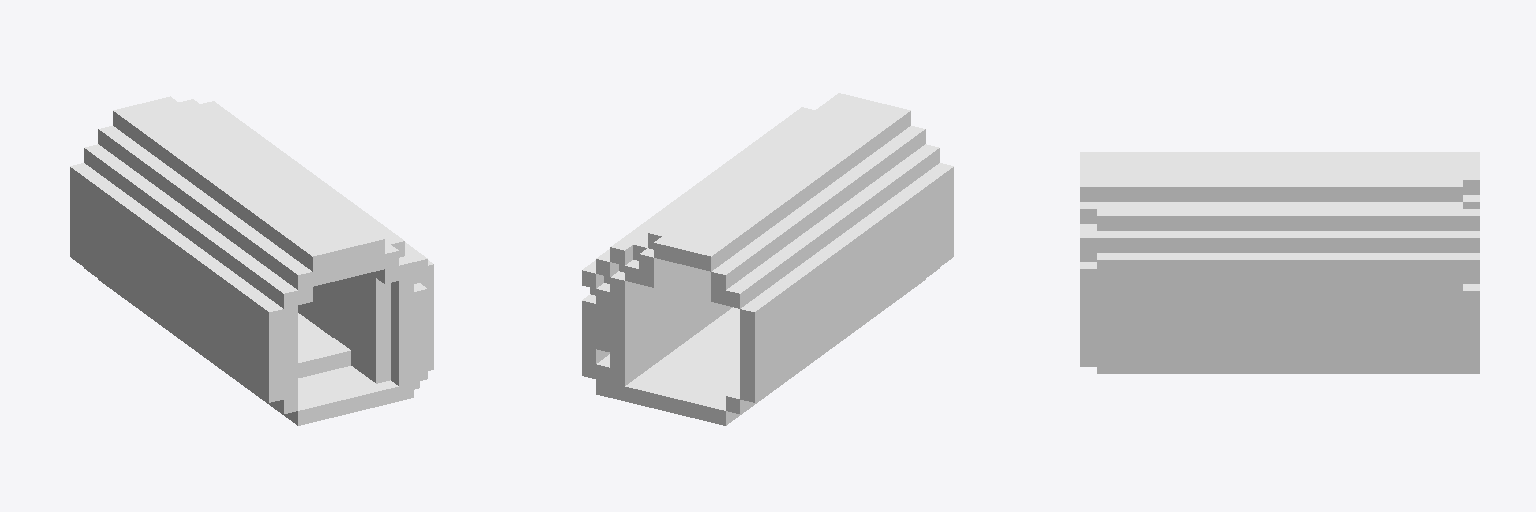
File: PreCheck_Snake1-3.obj
3 renders of one model, left to right at view 1: azimuth 30°, elevation 25°; view 2: azimuth 150°, elevation 25°; view 3: azimuth 270°, elevation 25°, orthographic.
Parts seen in each view (by area): view 1: object 1; view 2: object 1; view 3: object 1.
Boxes of the visible parts, x1=… form: object 1: x1=70, y1=96, x2=433, y2=425; object 1: x1=582, y1=93, x2=953, y2=425; object 1: x1=1080, y1=152, x2=1479, y2=373.
Size of the model in its own units: 1.2 by 1.1 by 2.4.